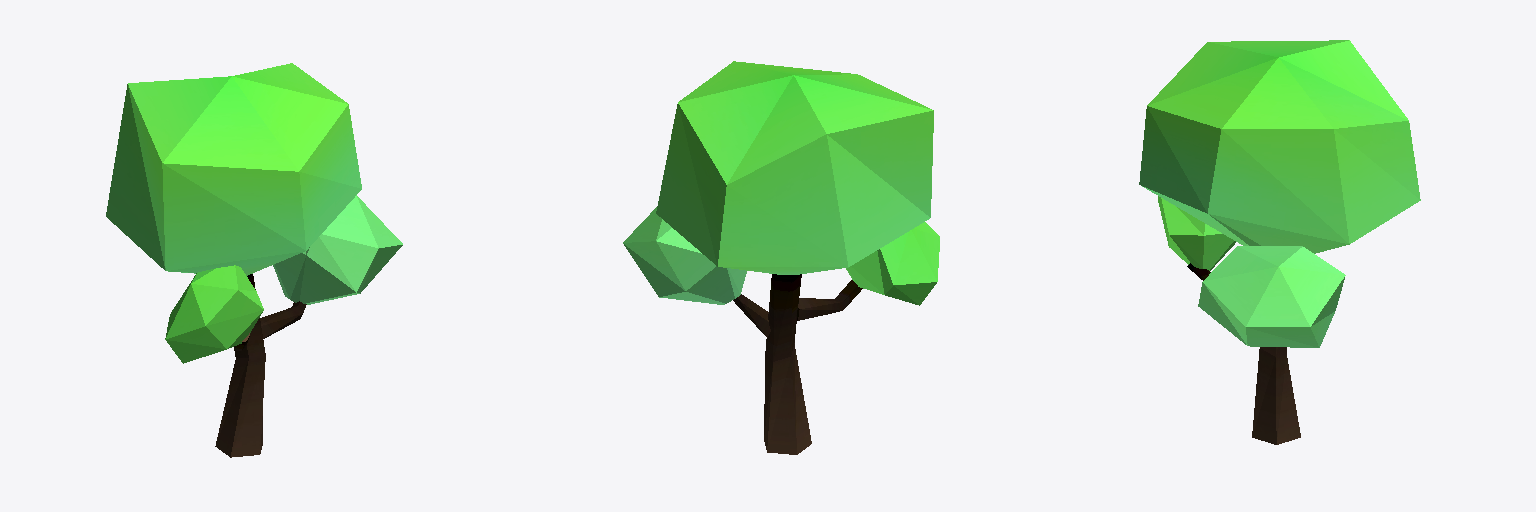
3 renders of one model, left to right at view 1: azimuth 30°, elevation 25°; view 2: azimuth 150°, elevation 25°; view 3: azimuth 270°, elevation 25°, orthographic.
Parts seen in each view (by area): view 1: Sphere001; view 2: Sphere001; view 3: Sphere001.
Part boxes in pixels (x1,y1,x2,y2): Sphere001: (106, 63, 402, 457); Sphere001: (623, 61, 939, 454); Sphere001: (1139, 40, 1420, 444).
Size of the model in its own units: 8.85 by 12.09 by 8.28.
Materials: 2 (2 with a texture image).